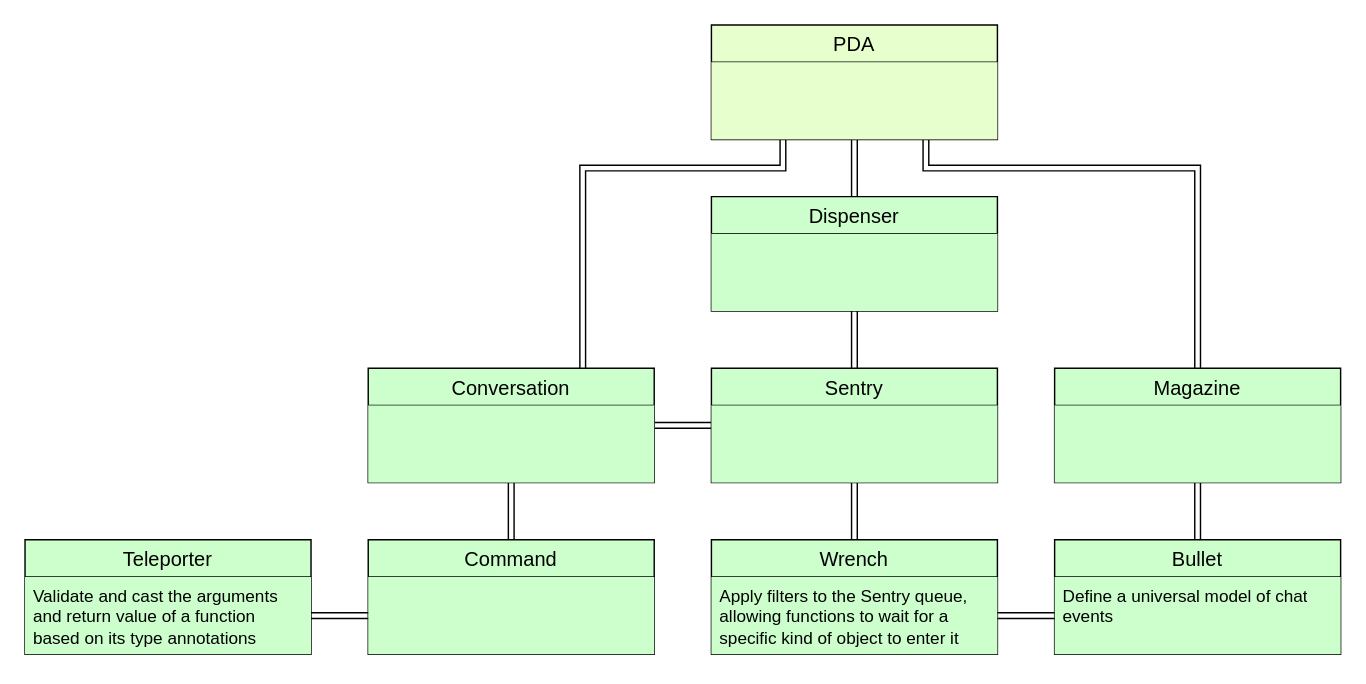
This 1366x684 diagram has some shape labels left out. The centre of each missing label's shape, as x and y in pixels:
A wrapper class for functions which can use Sentries: point (511, 443)
Allow instantiation of frontend-specific Bullets: point (1197, 443)
Intelligently parse command arguments and pass them as arguments of a function: point (511, 615)
Provide an interface to conversation developers to await for new chat events: point (854, 443)
Provides functions to instantiate new Sentries and to propagate events to them: point (854, 271)
Receive data from various front-ends and align it to the bullet model: point (854, 100)
